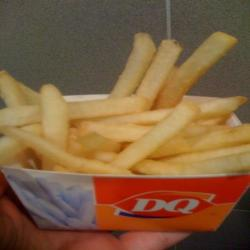fries: (10, 75, 249, 194)
